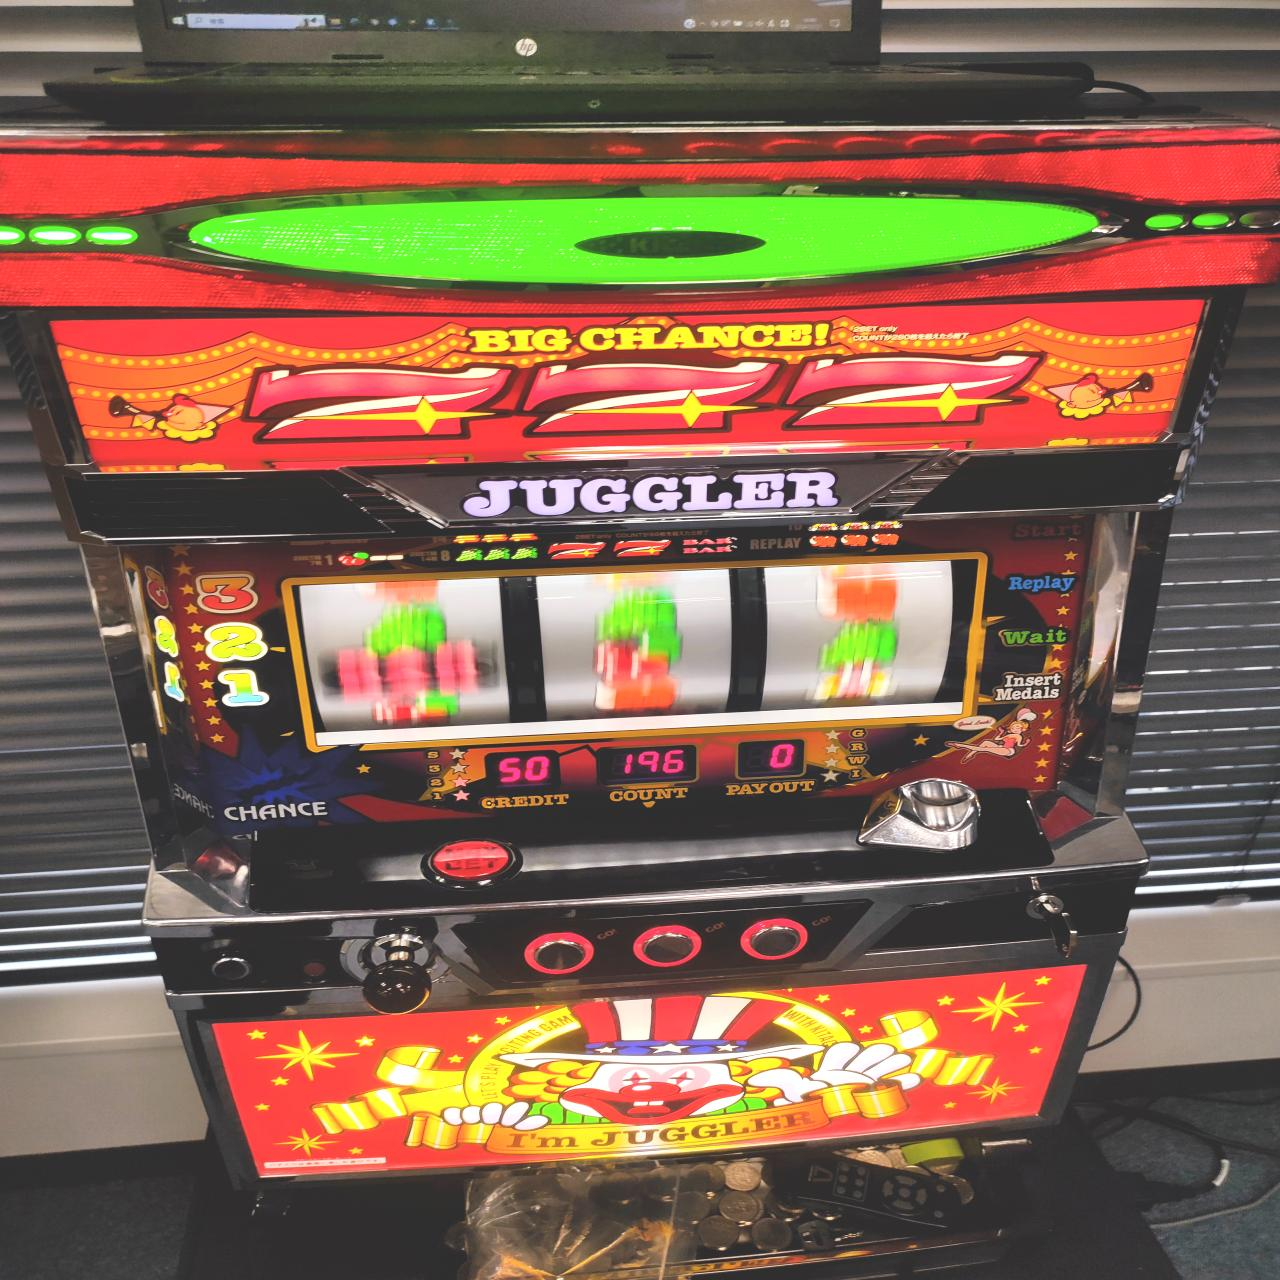rhino: (312, 551, 968, 723)
